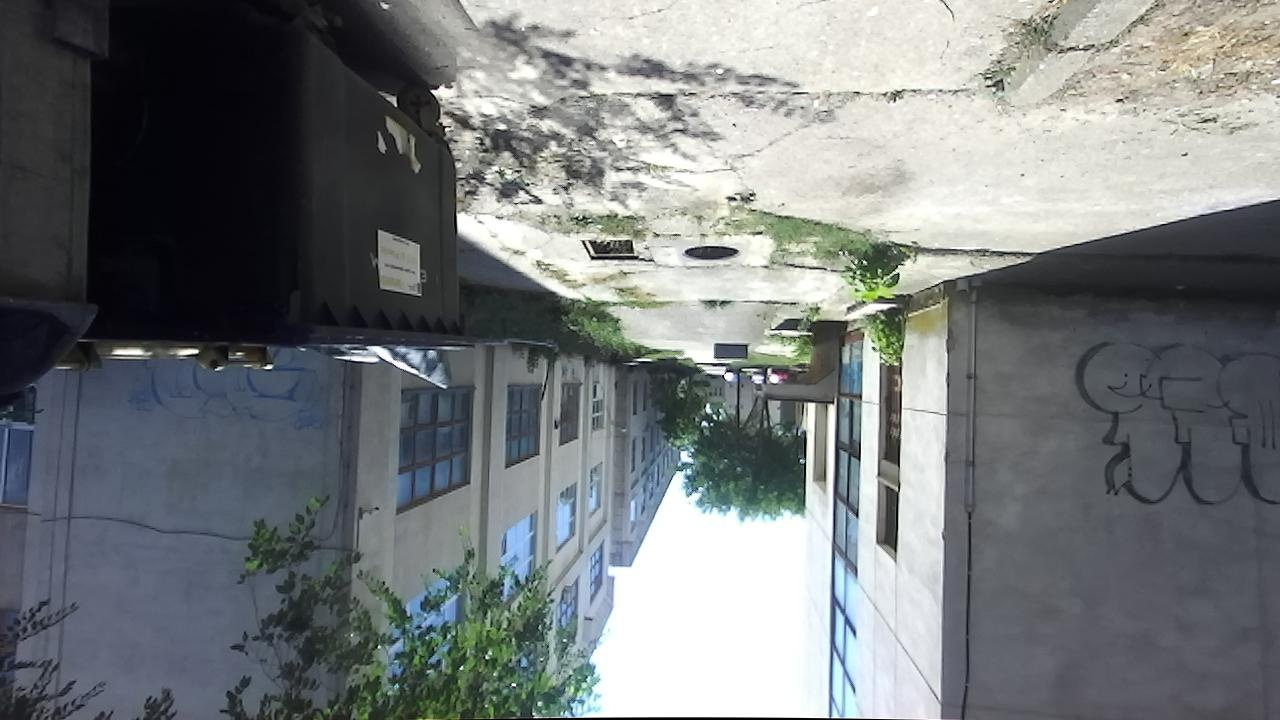drain: (678, 242, 744, 268), (575, 237, 640, 263)
